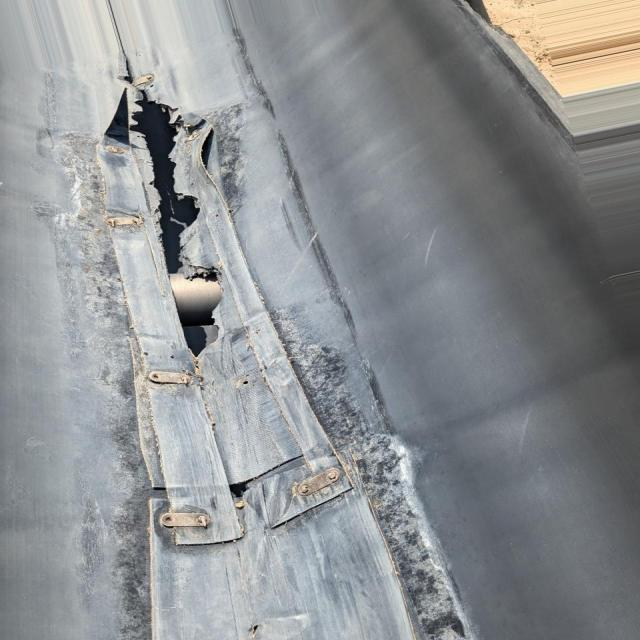Hole: (100, 41, 237, 367)
